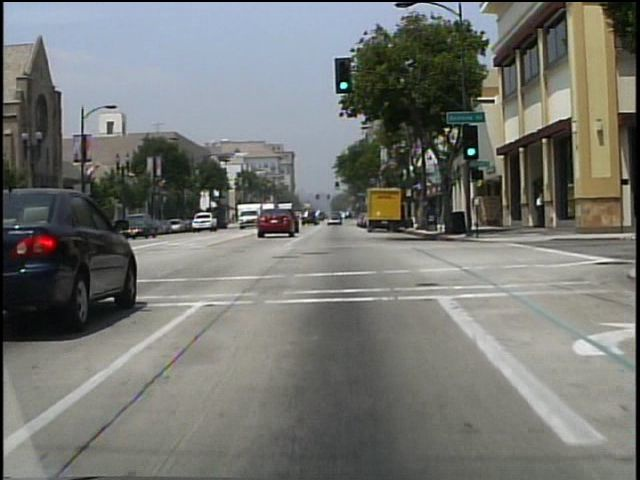person: (535, 193, 544, 229)
